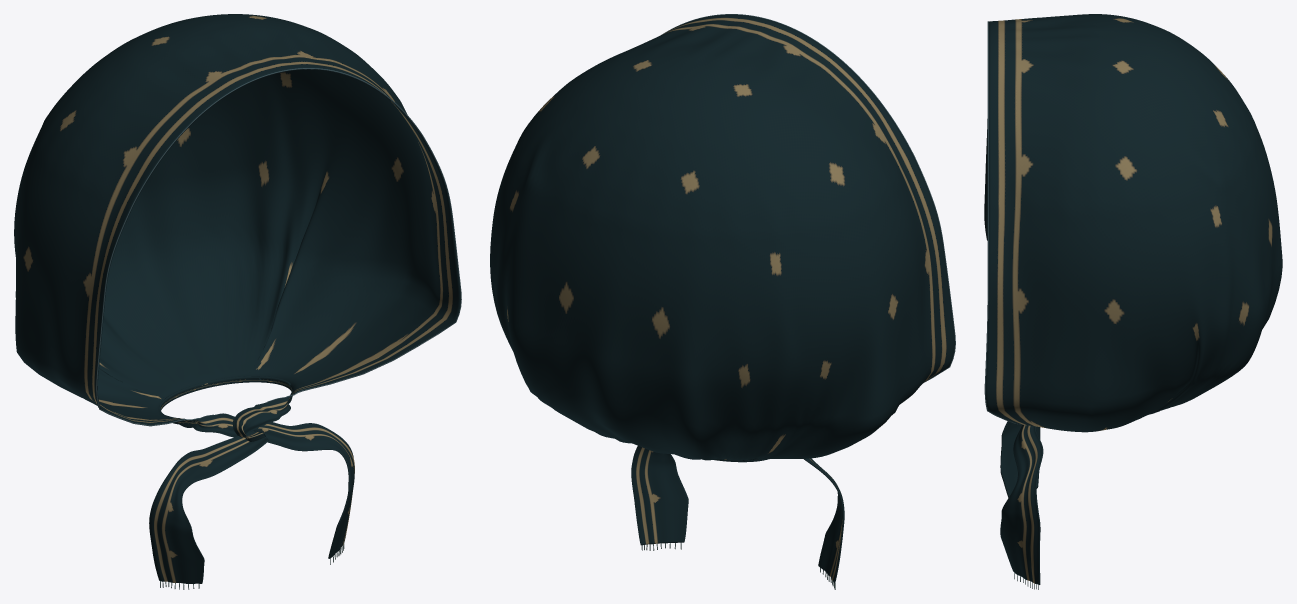
Rendered from Feminine-jersey-pashmina244-headgear.glb.
3 views of the same model, side by side, from view 1: azimuth 30°, elevation 25°; view 2: azimuth 150°, elevation 25°; view 3: azimuth 270°, elevation 25° (orthographic). The views are drawn at different scales.
Visible parts, largest first — view 1: 226 headgear / Headwear / continuous woven pashmina239, 226 headgear / Headwear / face edge239; view 2: 226 headgear / Headwear / continuous woven pashmina239, 226 headgear / Headwear / face edge239; view 3: 226 headgear / Headwear / continuous woven pashmina239, 226 headgear / Headwear / face edge239.
Part boxes in pixels (x1,y1,x2,y2): 226 headgear / Headwear / continuous woven pashmina239: [14, 14, 460, 583]; 226 headgear / Headwear / face edge239: [96, 68, 461, 426]; 226 headgear / Headwear / continuous woven pashmina239: [490, 14, 954, 583]; 226 headgear / Headwear / face edge239: [662, 14, 955, 383]; 226 headgear / Headwear / continuous woven pashmina239: [984, 14, 1282, 584]; 226 headgear / Headwear / face edge239: [984, 21, 1028, 425].
Bounding box in the file's own units: 1.02 × 1.35 × 0.7116.
Materials: 3 (1 with a texture image).
